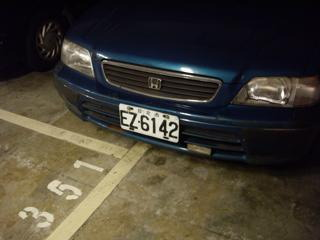plate: (117, 101, 182, 146)
